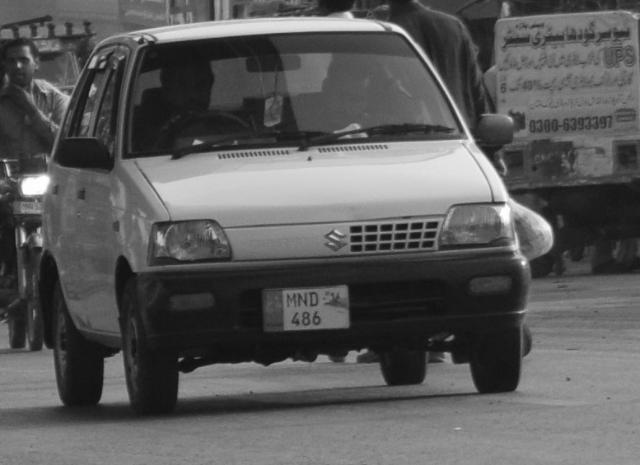Number: (286, 292, 326, 327)
